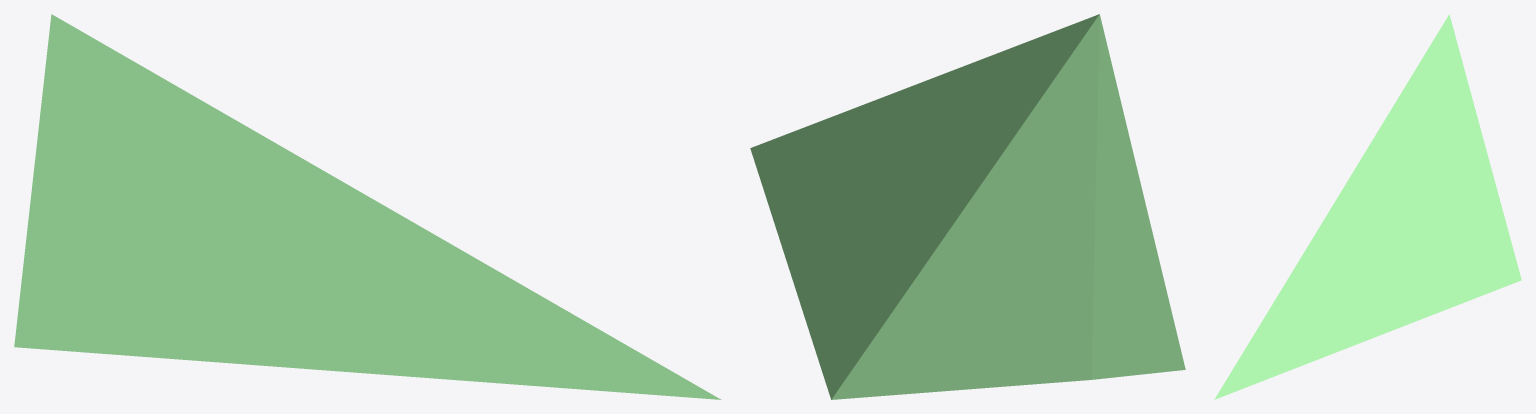
Rendered from UMIRobot_UMIRobot_link_3_convex_coll_9.dae.
3 views of the same model, side by side, from view 1: azimuth 30°, elevation 25°; view 2: azimuth 150°, elevation 25°; view 3: azimuth 270°, elevation 25° (orthographic). The views are drawn at different scales.
Parts seen in each view (by area): view 1: node; view 2: node; view 3: node.
Boxes of the visible parts, <box> form: node: <box>14,14,721,399</box>; node: <box>750,14,1185,399</box>; node: <box>1214,14,1521,399</box>.
Size of the model in its own units: 0.0156 by 0.0102 by 0.0121.
